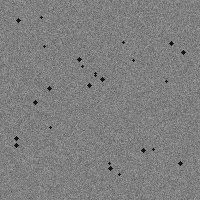pitted_surface: (30, 30, 170, 170)
